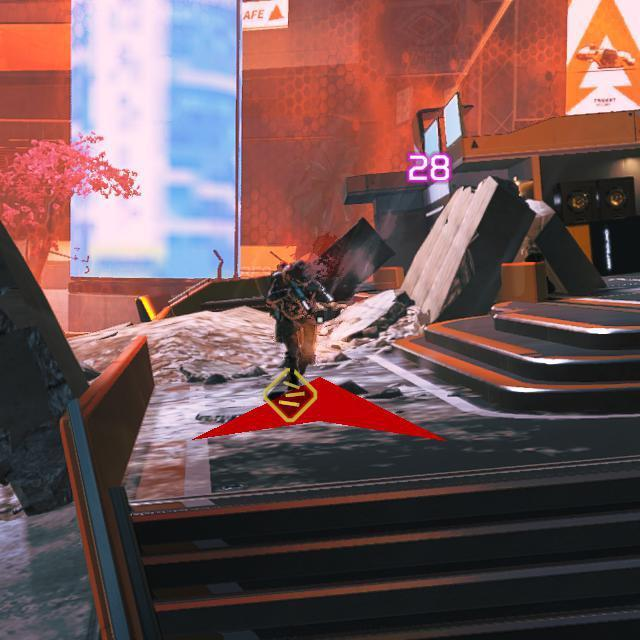avatar: (265, 259, 334, 383)
